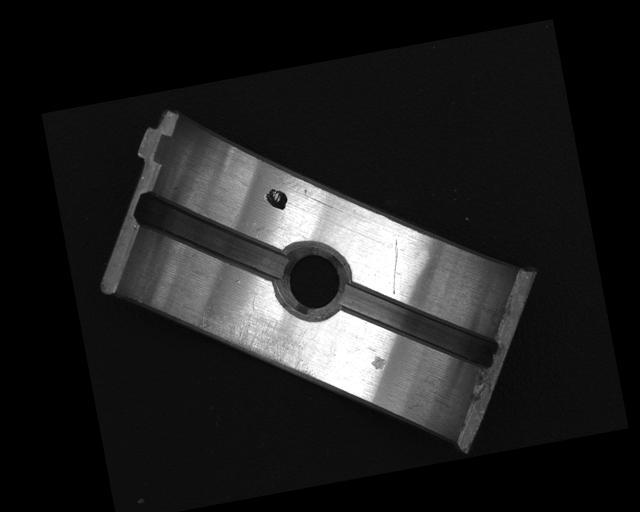blot: (264, 185, 290, 213)
bruise: (369, 353, 388, 372)
gap: (337, 257, 502, 392), (131, 170, 293, 302)
hole: (267, 234, 359, 327)
nick: (383, 237, 409, 294)
scratch: (183, 290, 316, 400)
